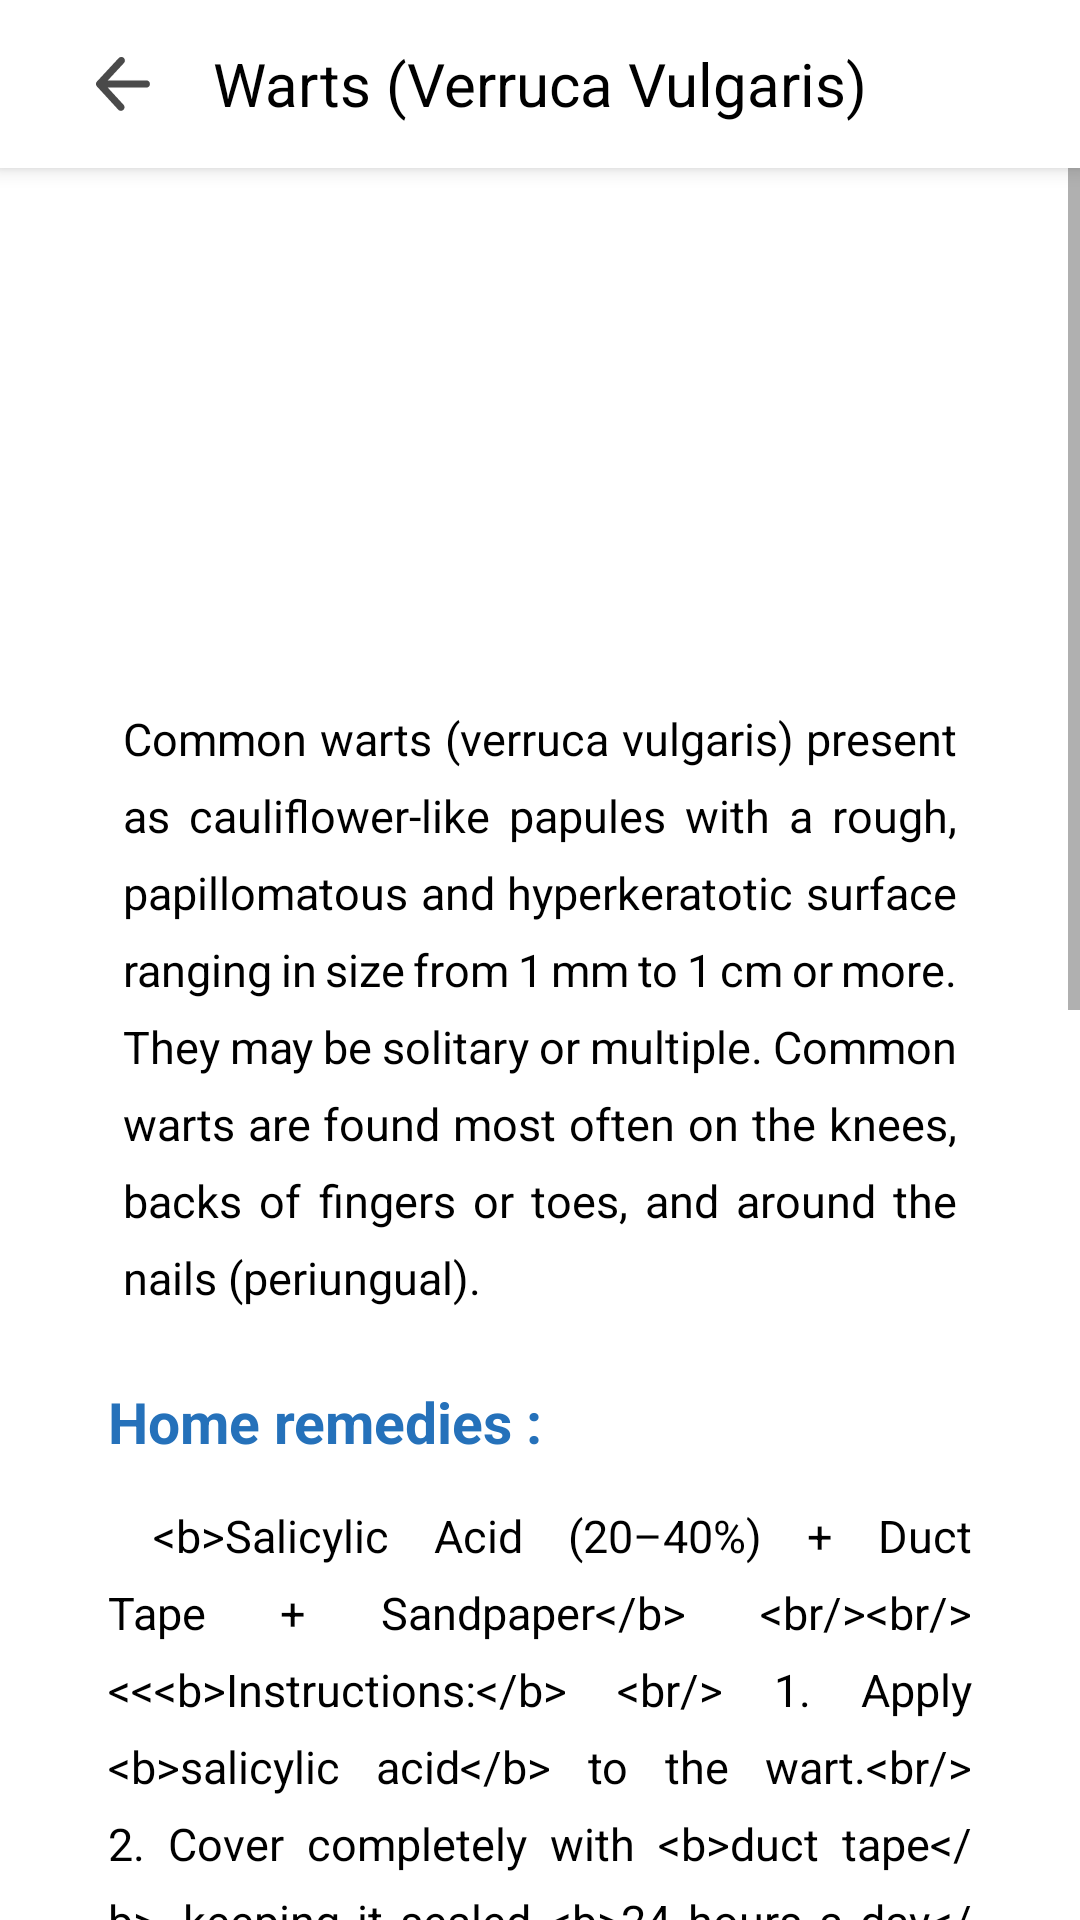

Named icons in this screenshot (1080*1920) and their centers, point (x, y):
Back: point (123, 84)
